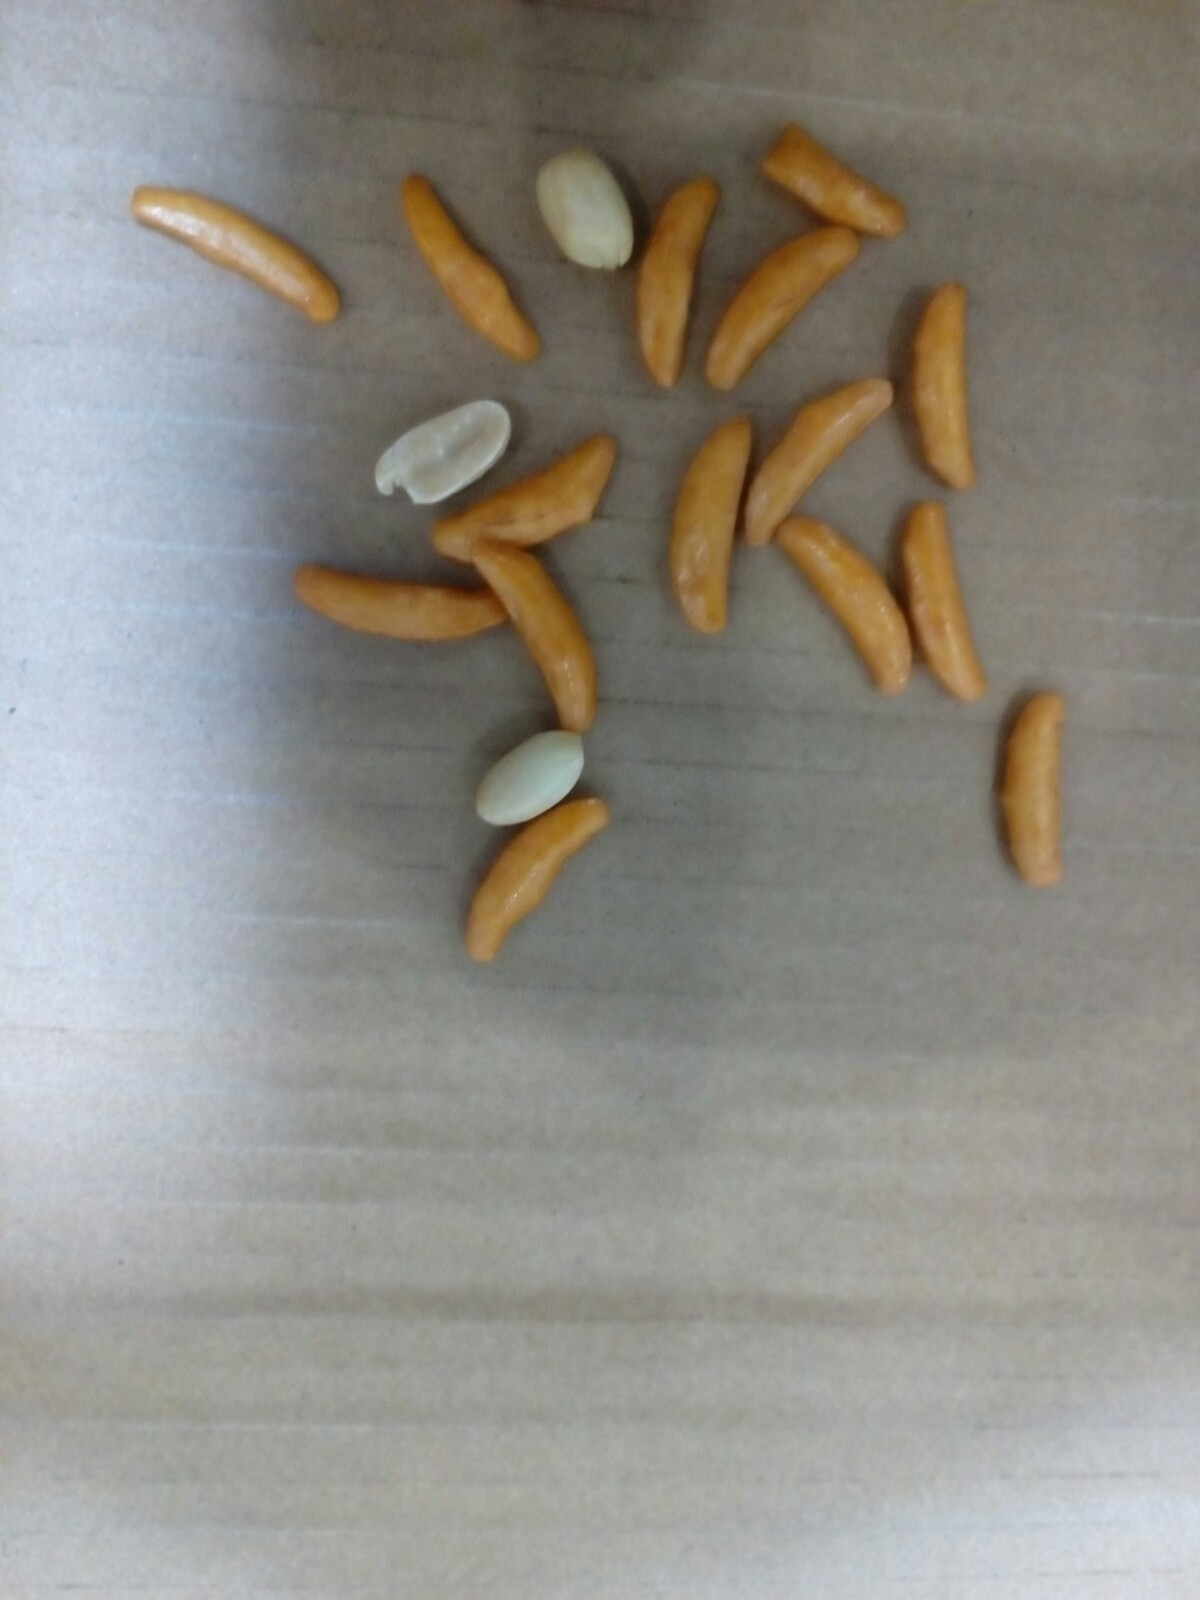peanut: (361, 382, 528, 511), (531, 134, 650, 287), (463, 721, 594, 829)
